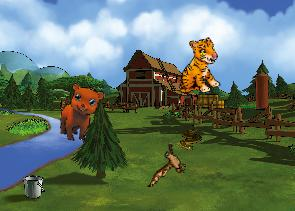bear: (58, 82, 105, 144)
eagle: (147, 140, 189, 192)
tiger: (170, 36, 225, 98)
